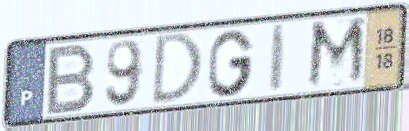9: (104, 38, 146, 108)
B: (43, 41, 98, 118)
D: (149, 30, 205, 108)
G: (206, 27, 257, 99)
I: (267, 21, 291, 95)
M: (304, 14, 368, 93)
